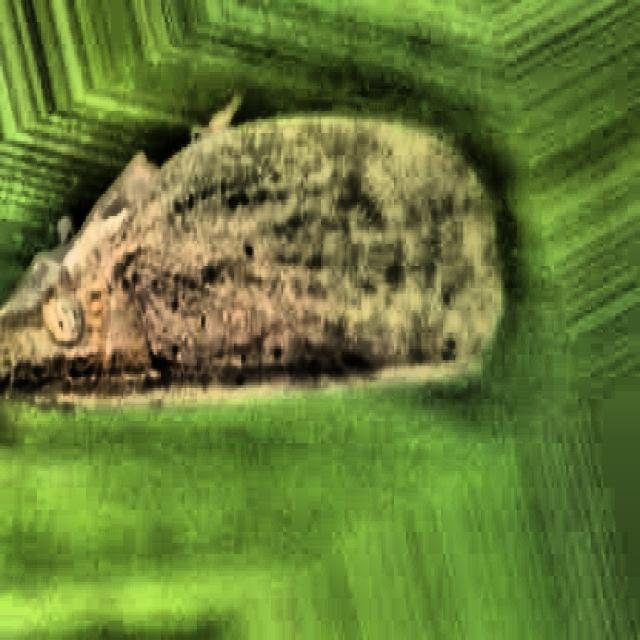Pyrilla-perpusilla: (25, 22, 548, 640)
